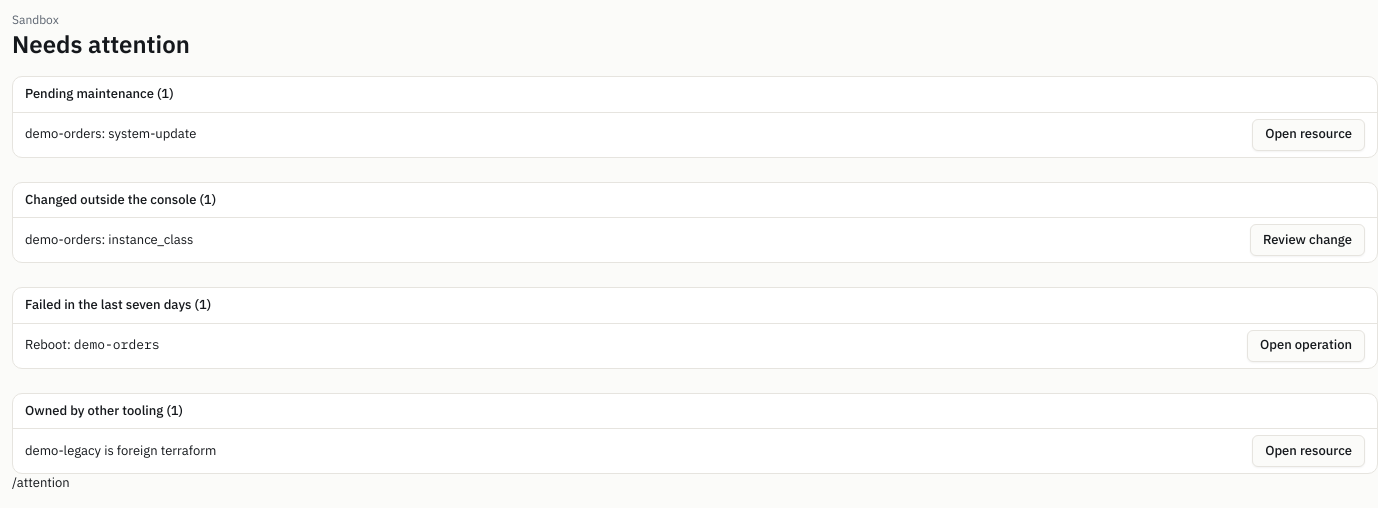
Test: AttentionPage › takes rows that have no resolving task to the resource or the operation
Click the button "Open resource" in the row of "demo-orders: system-update": (1309, 135) [1252, 119, 1365, 151]
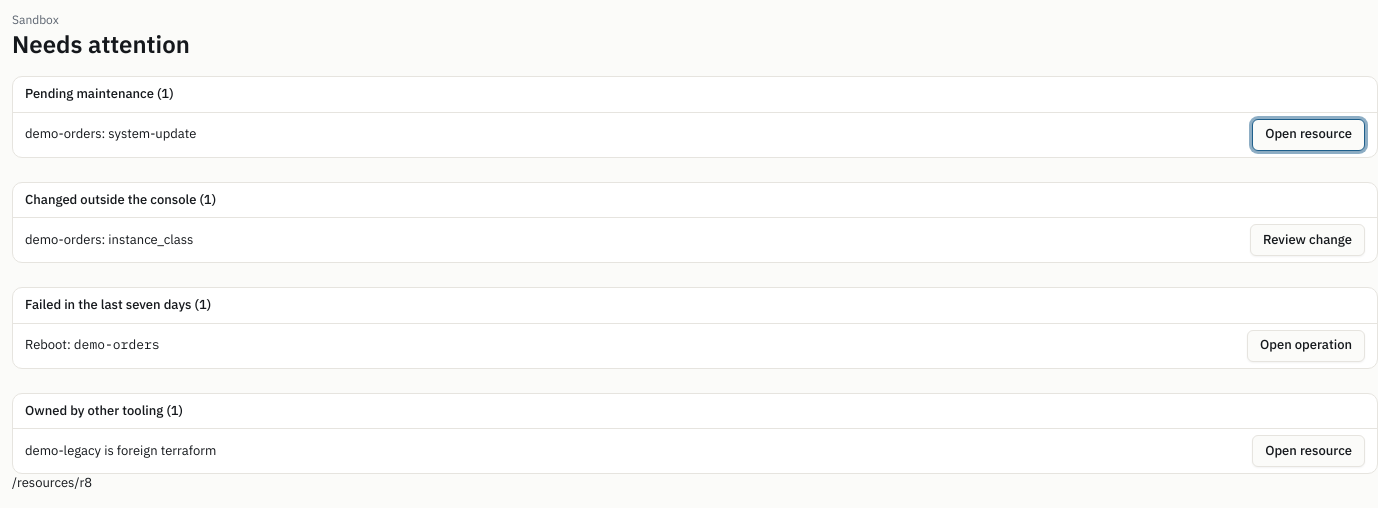
Check: the text with test id "location" reads "/resources/r8", box [12, 474, 92, 491]
Click the button "Review change": (1307, 240) [1250, 224, 1365, 256]
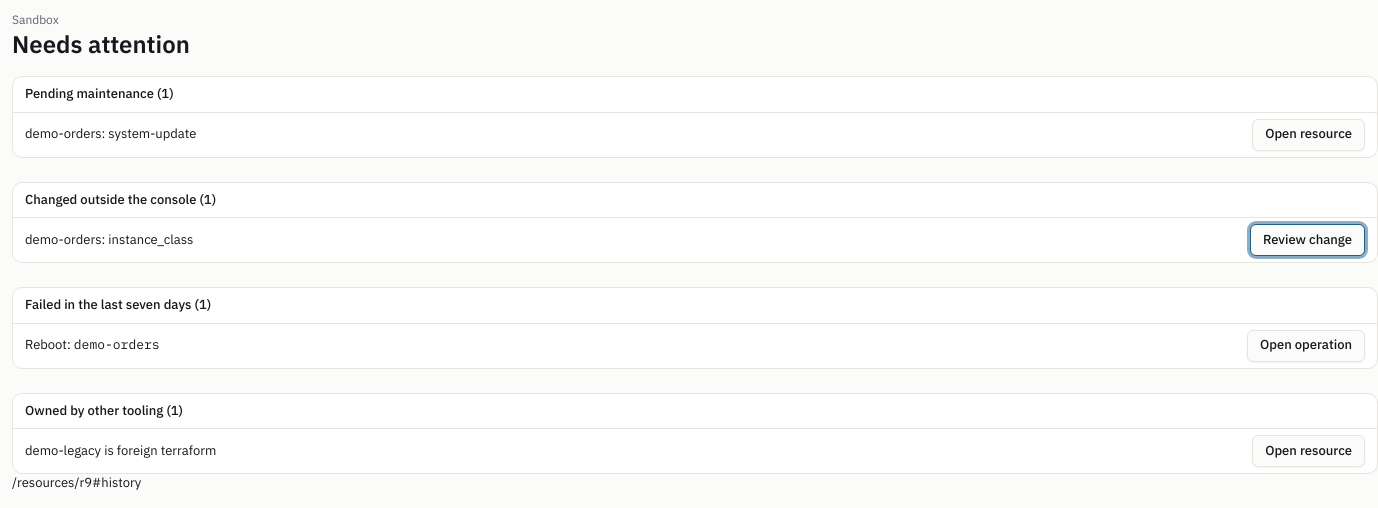
Check: the text with test id "location" reads "/resources/r9#history", box [12, 474, 141, 491]
Click the button "Open resource" in the row of "demo-legacy is foreign terraform": (1309, 451) [1252, 435, 1365, 467]
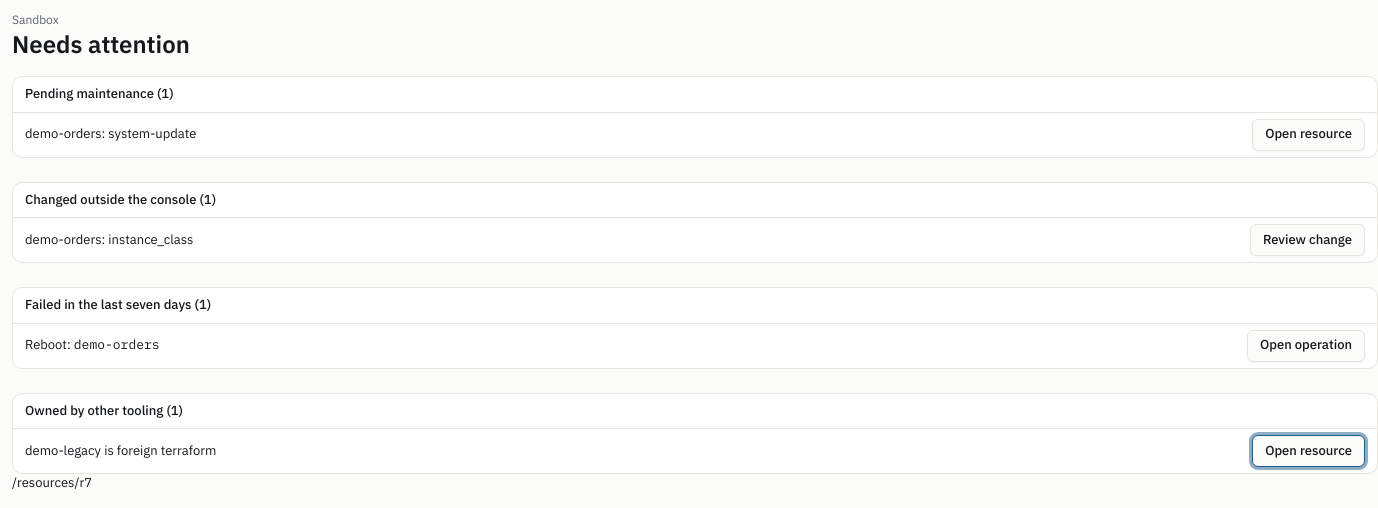
Check: the text with test id "location" reads "/resources/r7", box [12, 474, 92, 491]
Click the button "Open operation": (1306, 346) [1247, 330, 1365, 362]
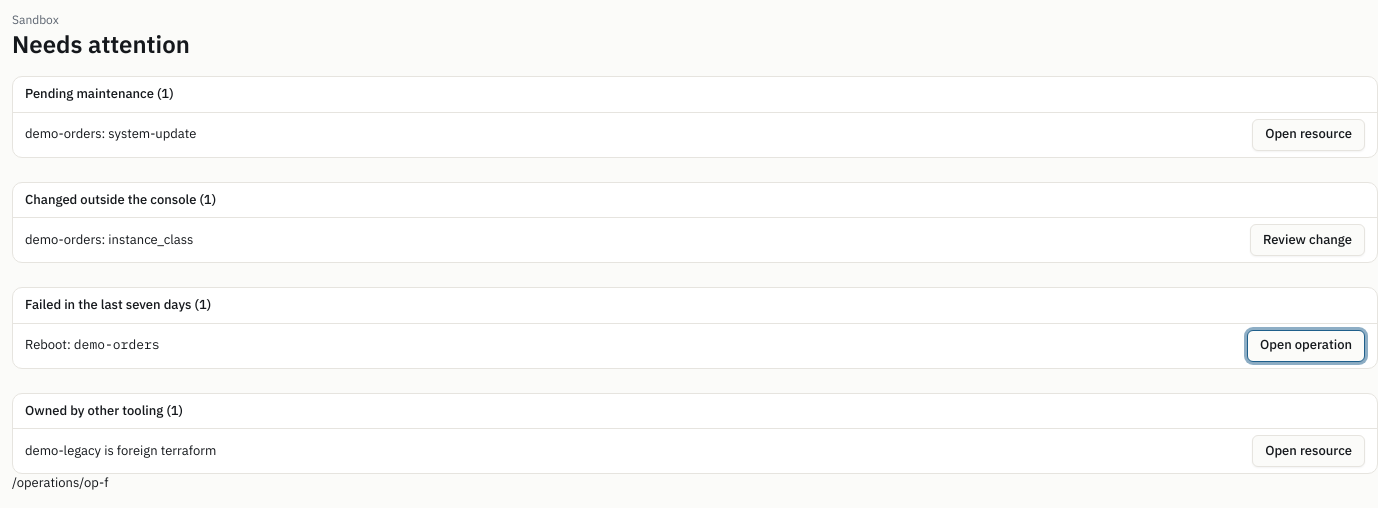
Check: the text with test id "location" reads "/operations/op-f", box [12, 474, 108, 491]
